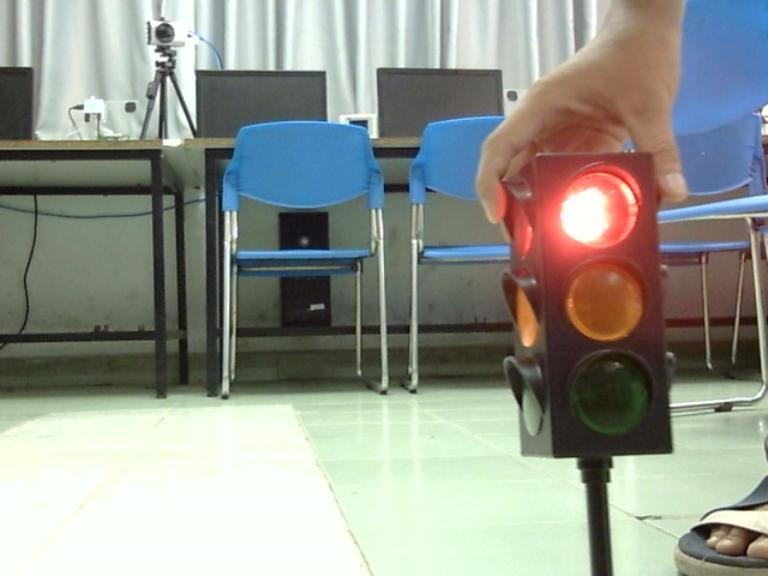red: (553, 161, 648, 258)
